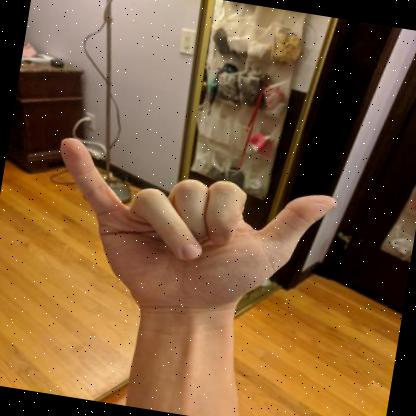Y: (59, 137, 337, 317)
